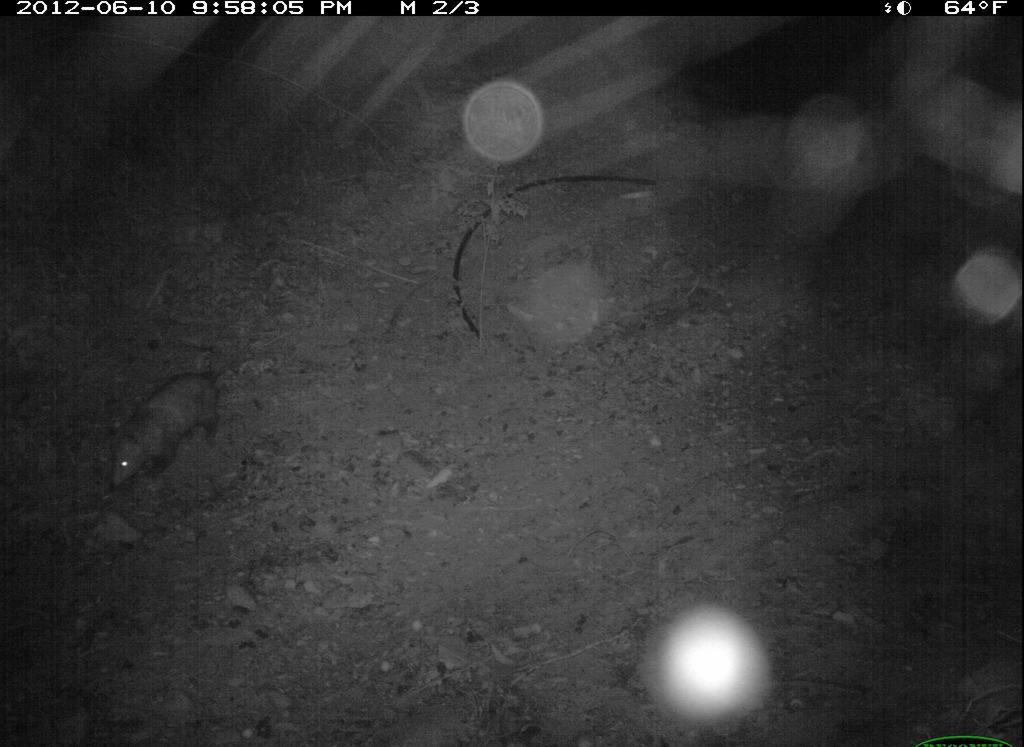opossum: (104, 349, 249, 497)
